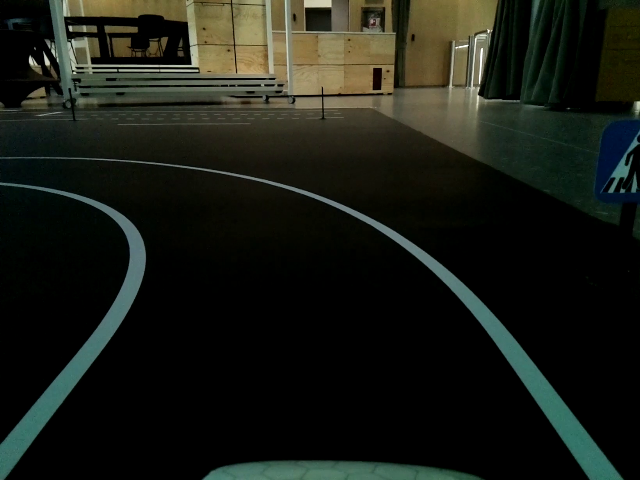pedestrians: (598, 123, 640, 206)
